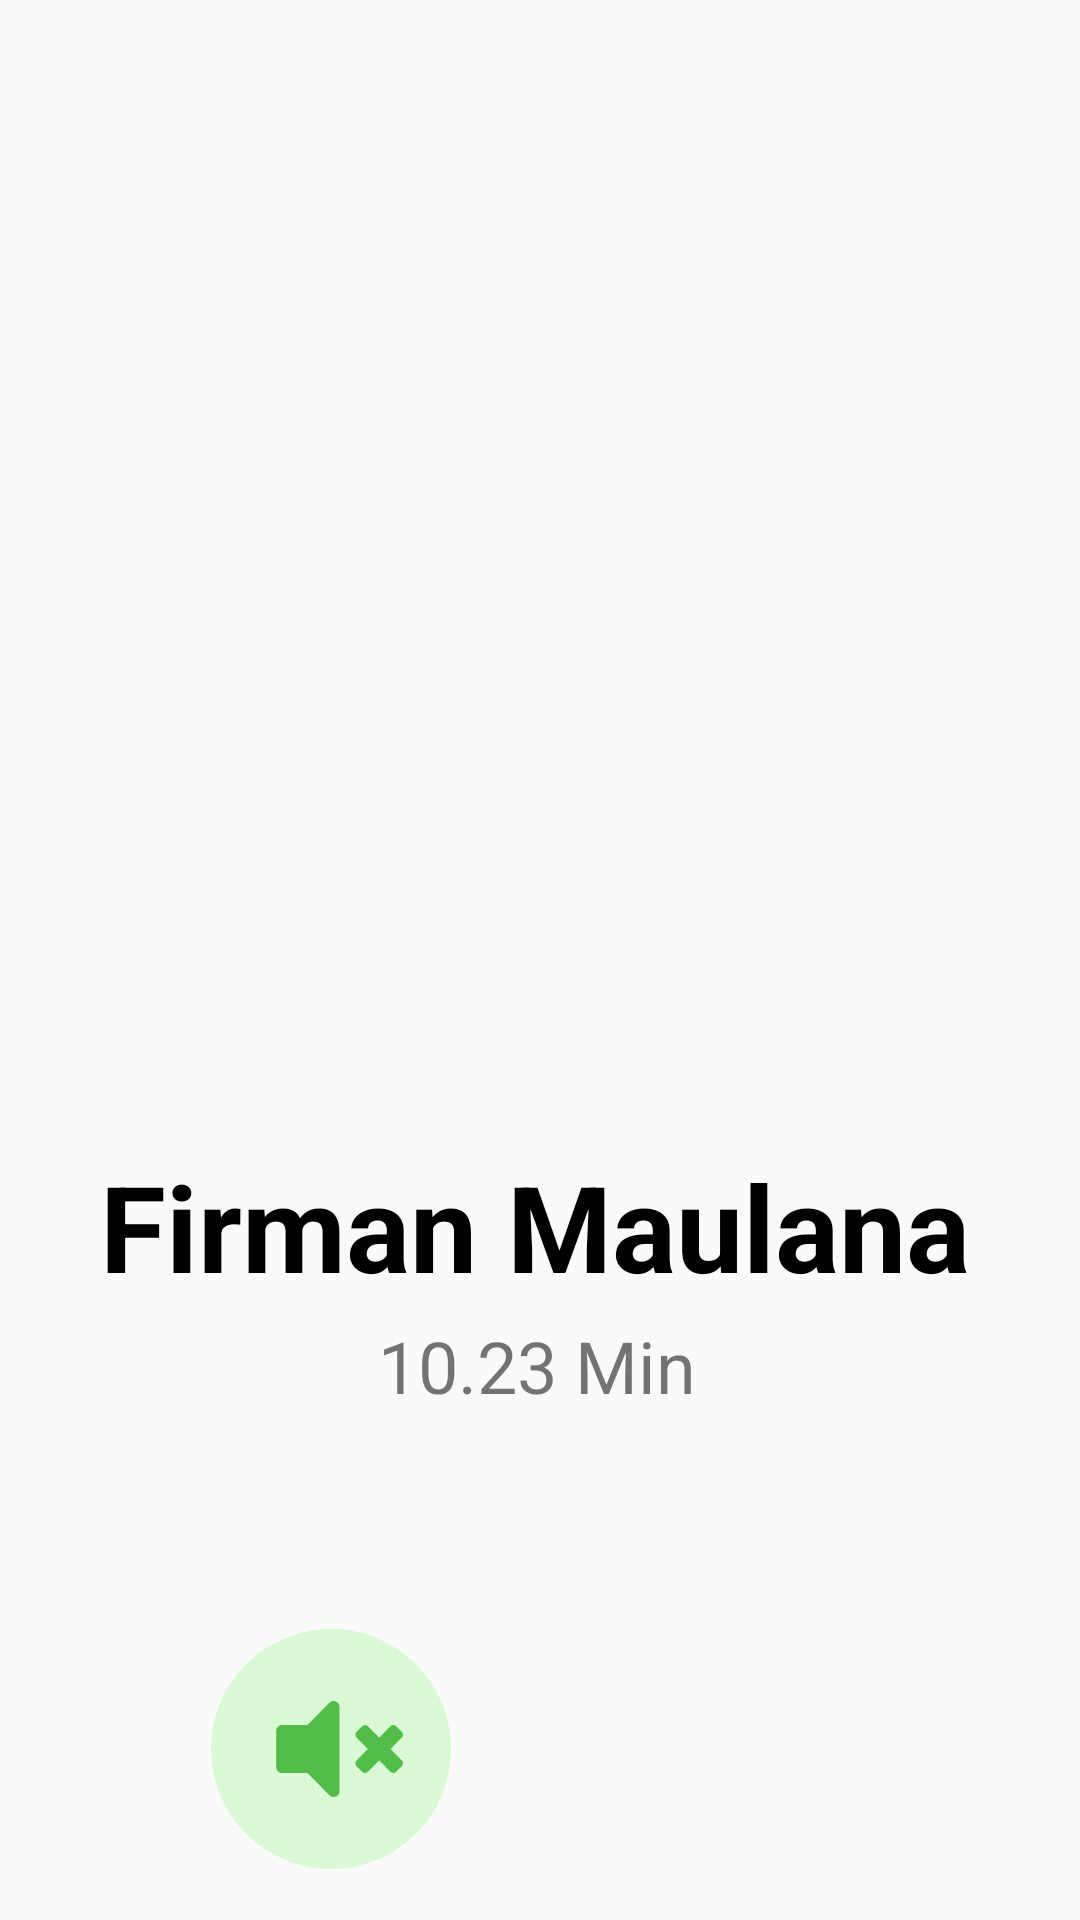

Where to tap for icons on this 1080px x 1920px app screen, as (x=x, y=y):
mute: (x=331, y=1749)
